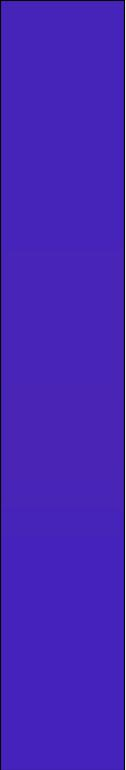safe: (12, 9, 115, 763)
